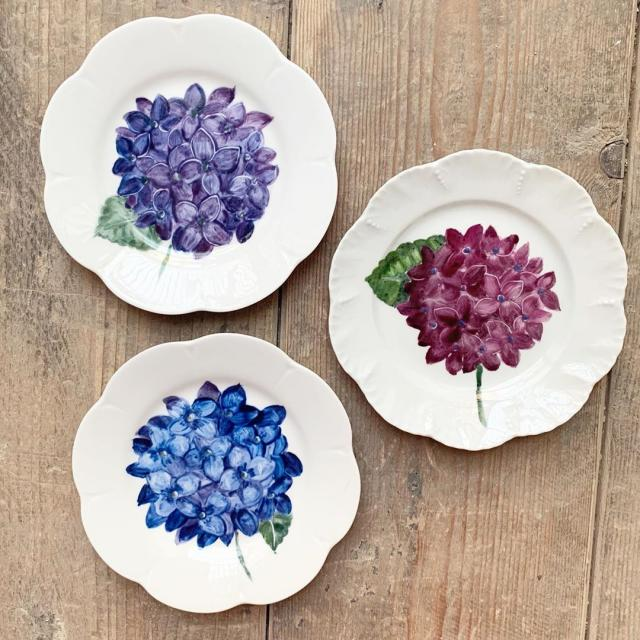non-organic waste: (299, 136, 640, 464), (58, 328, 378, 634), (39, 12, 330, 314)
